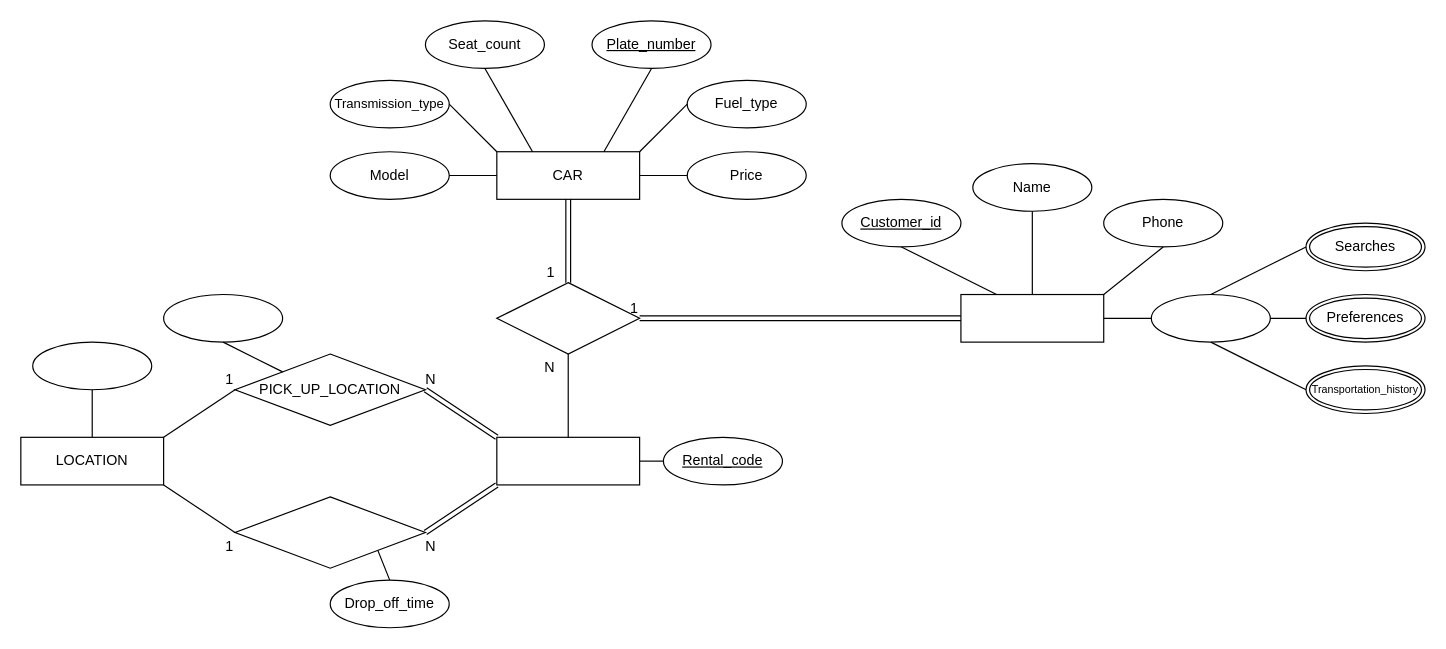
Image size: 1446x649. Some labels were removed from this diagram. Each missing label, with the box of its shape:
Address: (32, 341, 152, 390)
CAR_RENTAL: (496, 436, 640, 485)
CUSTOMER: (960, 293, 1104, 342)
Data: (1150, 293, 1270, 342)
DROP_OFF_LOCATION: (234, 496, 425, 568)
Pick_up_time: (162, 293, 283, 342)
RENTAL: (496, 281, 640, 354)
